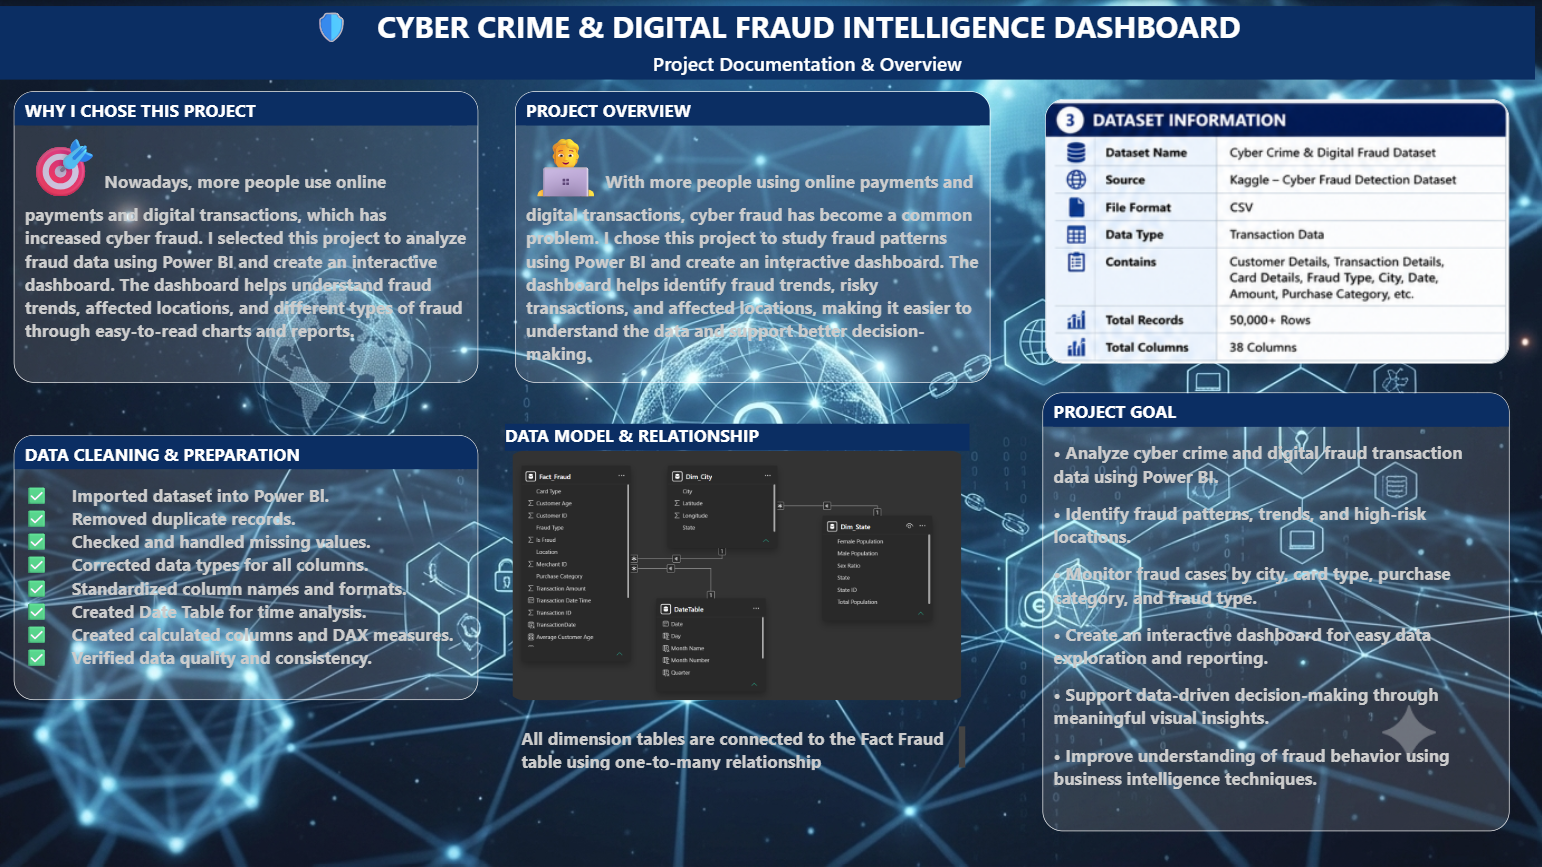

What the dashboard file says about the page in this screenshot:
{"tool":"powerbi","page":{"name":"Project Documation","canvas":[1920,1080],"ordinal":0},"visuals":[{"type":"shape","title":"   🛡️    CYBER CRIME & DIGITAL FRAUD INTELLIGENCE DASHBOARD","box":[0,7.3,1909.1,90.9],"z":0},{"type":"textbox","title":"     WHY I CHOSE THIS PROJECT","box":[17.4,113.4,577.3,362.8],"z":1000},{"type":"textbox","title":"     PROJECT OVERVIEW","box":[640.1,113.4,591.3,362.8],"z":2000},{"type":"image","box":[1299.4,122.1,577.3,329.7],"z":3000},{"type":"textbox","title":"     DATA CLEANING & PREPARATION","box":[17.4,540.7,577.3,329.7],"z":4000},{"type":"image","title":"DATA MODEL & RELATIONSHIP","box":[627.9,526.7,577.3,343.6],"z":5000},{"type":"textbox","box":[643.6,898.3,561.6,64.5],"z":6000},{"type":"textbox","title":"PROJECT GOAL","box":[1295.9,488.4,580.8,545.9],"z":7000}]}

Visuals, with their boxes in screenshot pixels (x1, y1, x2, y2), scaled from the page's 1920x1080 canvas onto the 1542x867 screenshot:
"   🛡️    CYBER CRIME & DIGITAL FRAUD INTELLIGENCE DASHBOARD" shape: <bbox>0, 6, 1533, 79</bbox>
"     WHY I CHOSE THIS PROJECT" textbox: <bbox>14, 91, 478, 382</bbox>
"     PROJECT OVERVIEW" textbox: <bbox>514, 91, 989, 382</bbox>
image: <bbox>1044, 98, 1507, 363</bbox>
"     DATA CLEANING & PREPARATION" textbox: <bbox>14, 434, 478, 699</bbox>
"DATA MODEL & RELATIONSHIP" image: <bbox>504, 423, 968, 699</bbox>
textbox: <bbox>517, 721, 968, 773</bbox>
"PROJECT GOAL" textbox: <bbox>1041, 392, 1507, 830</bbox>
